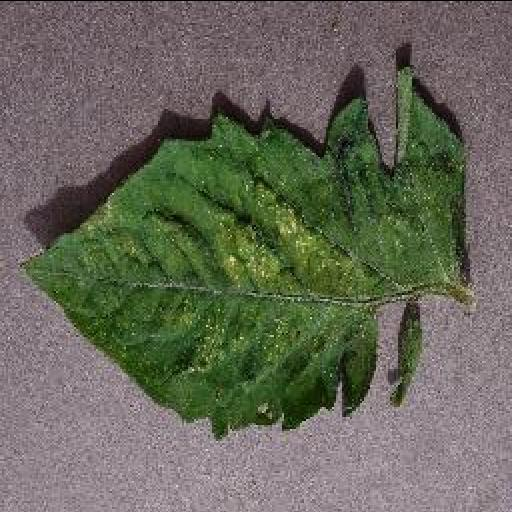disease_tomato: (14, 62, 476, 438)
